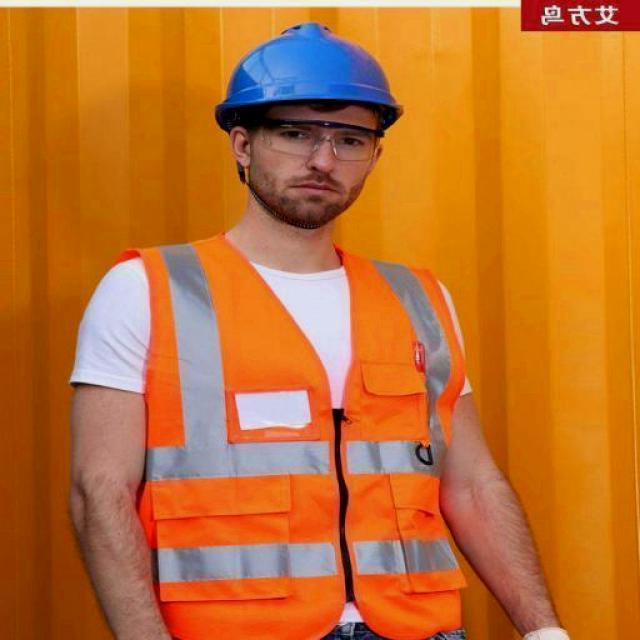face_nomask: (254, 113, 378, 222)
glasses: (252, 110, 384, 166)
head_helmet: (212, 23, 400, 118)
person: (54, 16, 587, 640)
vest: (121, 241, 465, 639)
